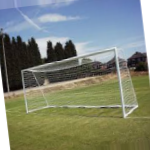goals: (21, 45, 141, 119)
